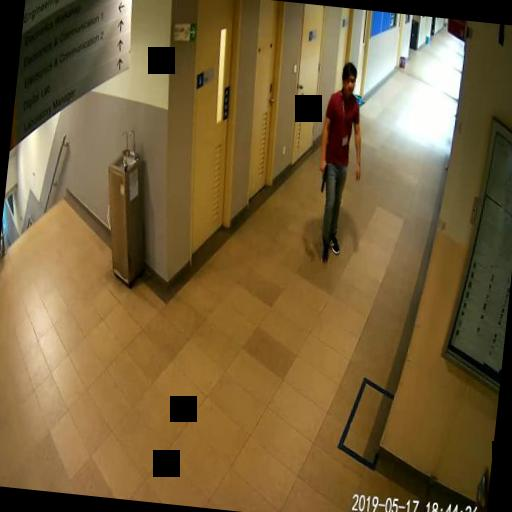Handgun: (316, 159, 328, 191)
